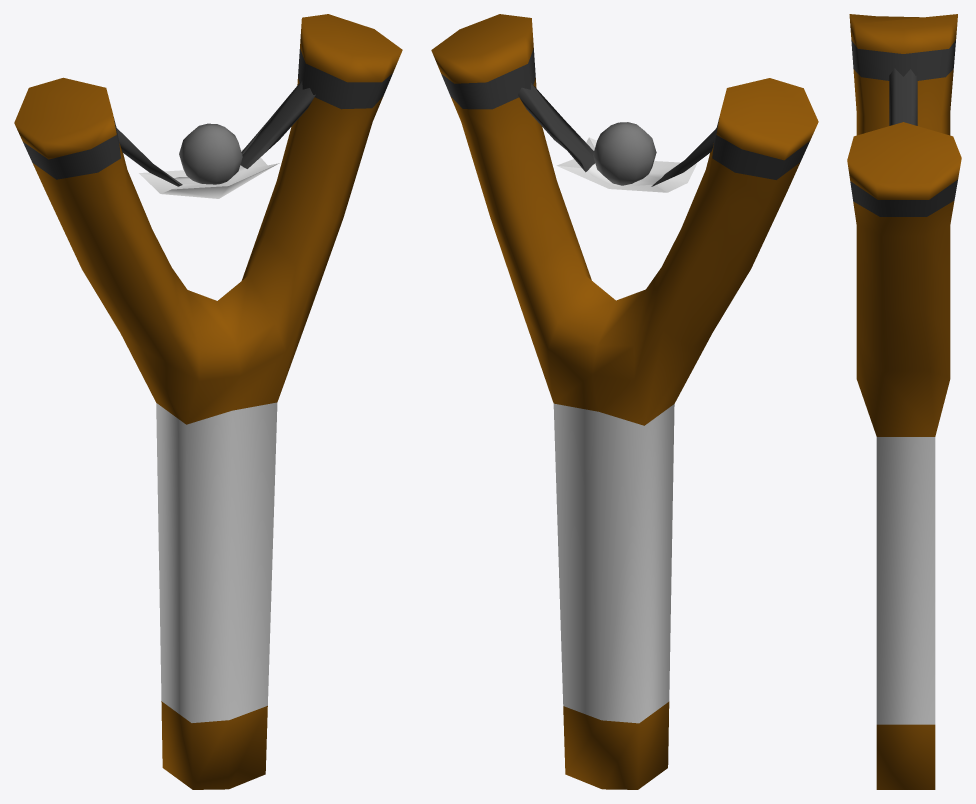
The model's file is slingshot.fbx.
3 renders of one model, left to right at view 1: azimuth 30°, elevation 25°; view 2: azimuth 150°, elevation 25°; view 3: azimuth 270°, elevation 25°, orthographic. The views are drawn at different scales.
Parts seen in each view (by area): view 1: pCylinder2; view 2: pCylinder2; view 3: pCylinder2.
Part boxes in pixels (left/top/right/bottom): pCylinder2: left=14, top=14, right=402, bottom=789; pCylinder2: left=431, top=14, right=818, bottom=789; pCylinder2: left=847, top=14, right=961, bottom=789.
Bounding box in the file's own units: 139 × 266 × 39.42.
